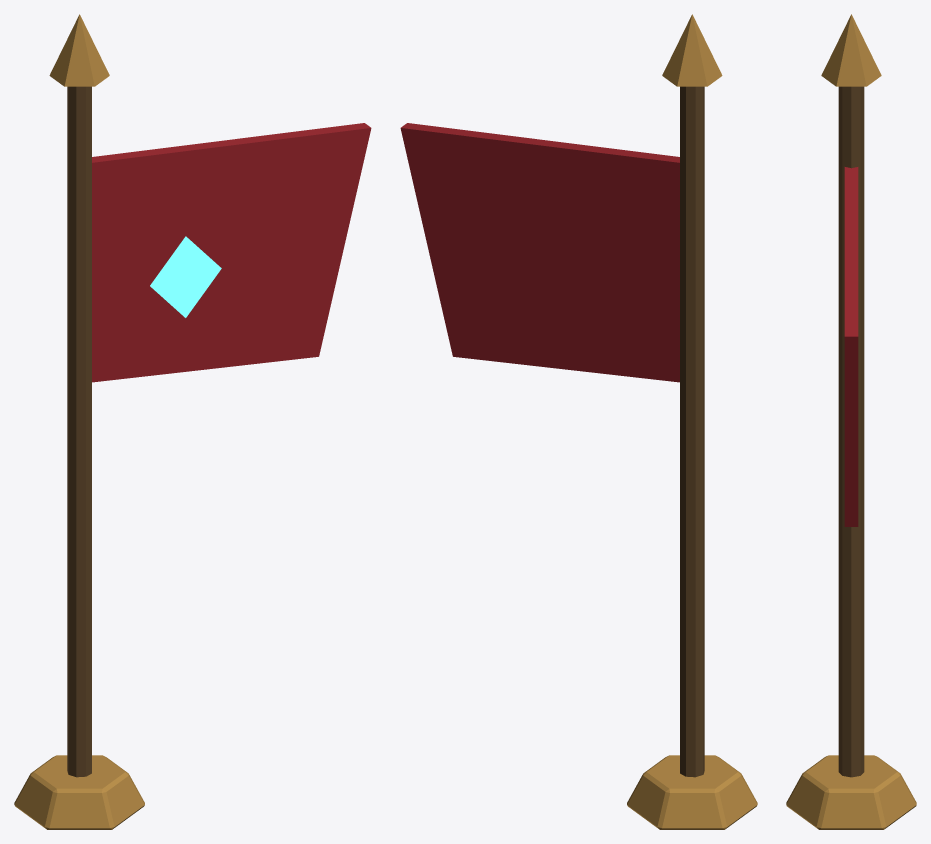
The model's file is env_banner.glb.
3 renders of one model, left to right at view 1: azimuth 30°, elevation 25°; view 2: azimuth 150°, elevation 25°; view 3: azimuth 270°, elevation 25°, orthographic.
Visible parts, largest first — view 1: crimson banner, banner pole, banner foot, dron banner glyph, banner finial; view 2: crimson banner, banner pole, banner foot, banner finial; view 3: banner pole, banner foot, crimson banner, banner finial.
Boxes of the visible parts, x1,y1,x2,y2 form: crimson banner: (92, 123, 371, 382); banner pole: (67, 86, 91, 777); banner foot: (14, 755, 144, 829); dron banner glyph: (150, 236, 221, 317); banner finial: (49, 14, 109, 86); crimson banner: (400, 123, 679, 382); banner pole: (680, 86, 704, 777); banner foot: (627, 755, 757, 829); banner finial: (662, 14, 722, 86); banner pole: (838, 86, 864, 777); banner foot: (786, 755, 916, 829); crimson banner: (844, 167, 858, 526); banner finial: (821, 14, 881, 86).
Bounding box in the file's own units: 1.03 × 2.31 × 0.3445.
